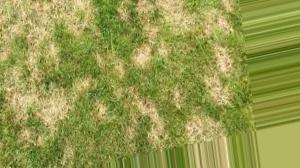patch: (5, 3, 99, 59), (163, 2, 228, 35), (35, 87, 71, 129), (182, 114, 232, 144), (122, 96, 155, 123), (128, 48, 154, 64)
